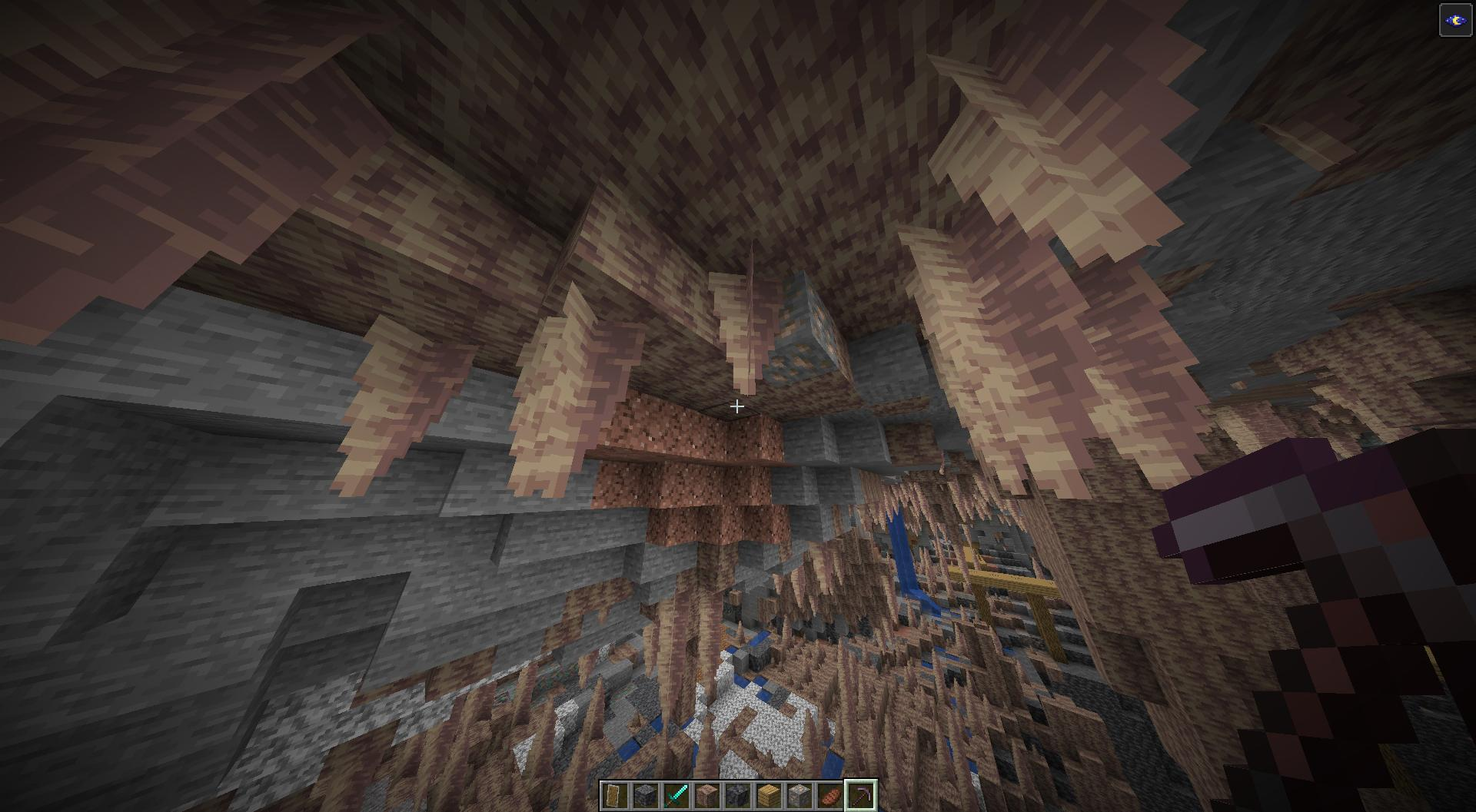iron ore: (759, 281, 834, 391)
